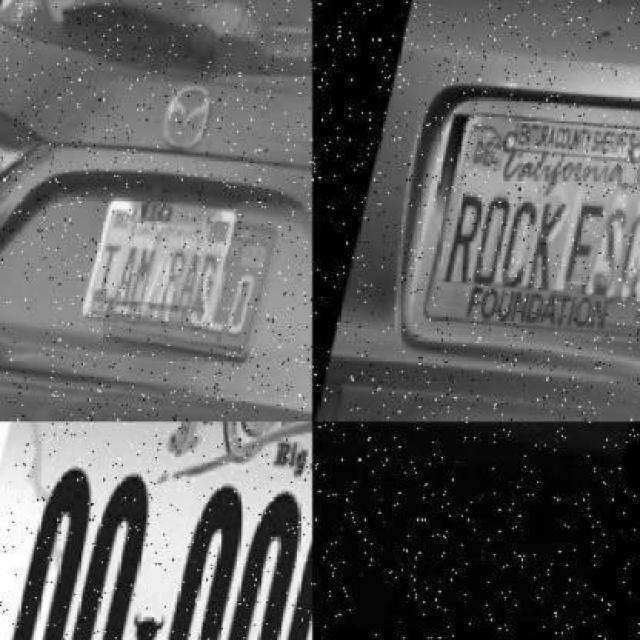licenseplate: (0, 434, 312, 640), (423, 106, 640, 346), (85, 188, 244, 345)
